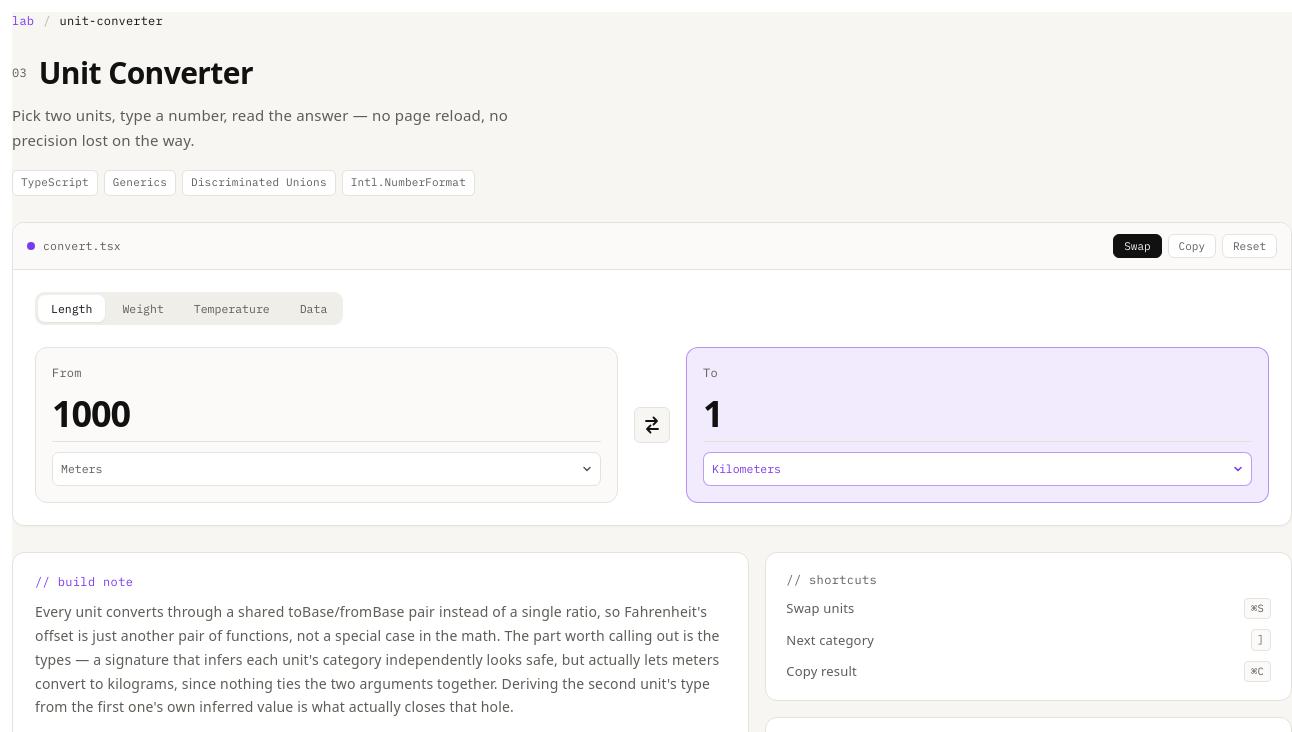
Test case: UnitConverterPage › swaps the from/to units without changing the typed value
The width and height of the screenshot is (1292, 732).
Step 1. Click the button "Swap" → (1137, 246), box 1113,234 -> 1162,258
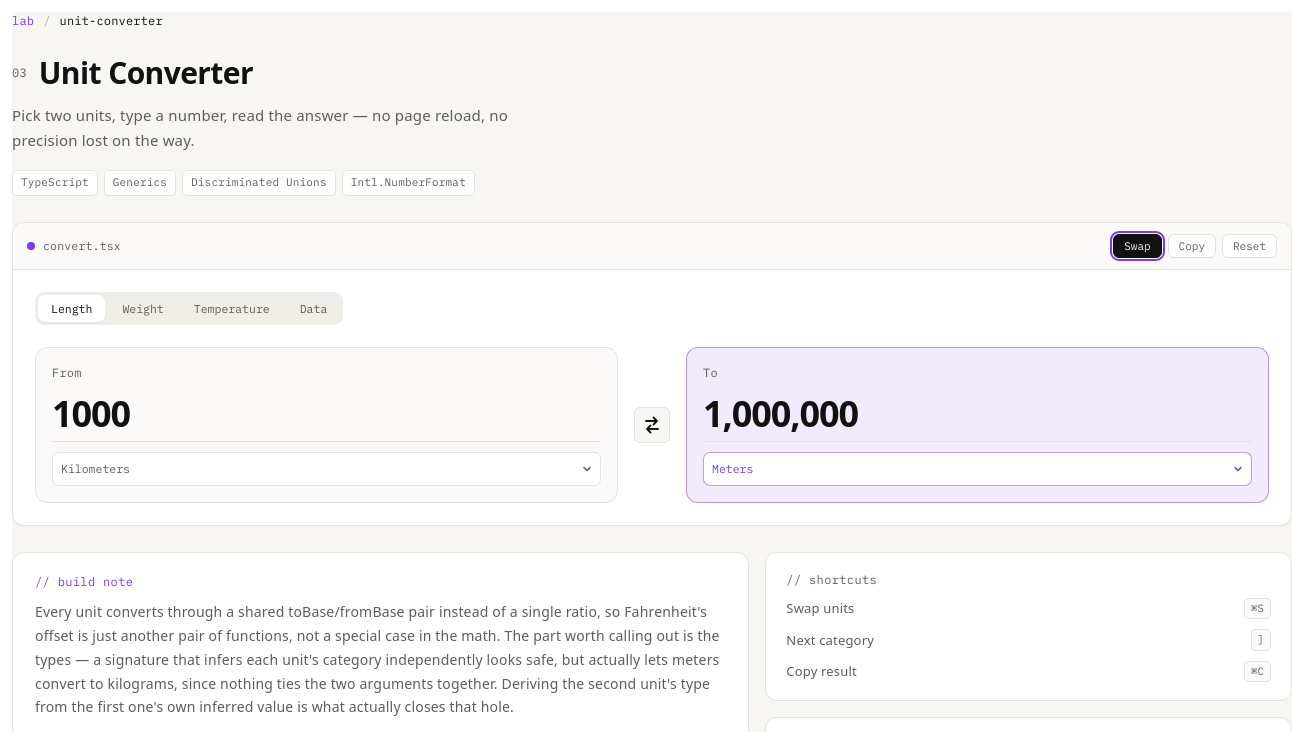
Expected: the field labelled "From" holds "1000", 52,392 -> 601,442
Result: the dropdown named "From unit" shows "Kilometers" at 52,452 -> 601,486
Result: the dropdown named "To unit" shows "Meters" at 703,452 -> 1252,486
